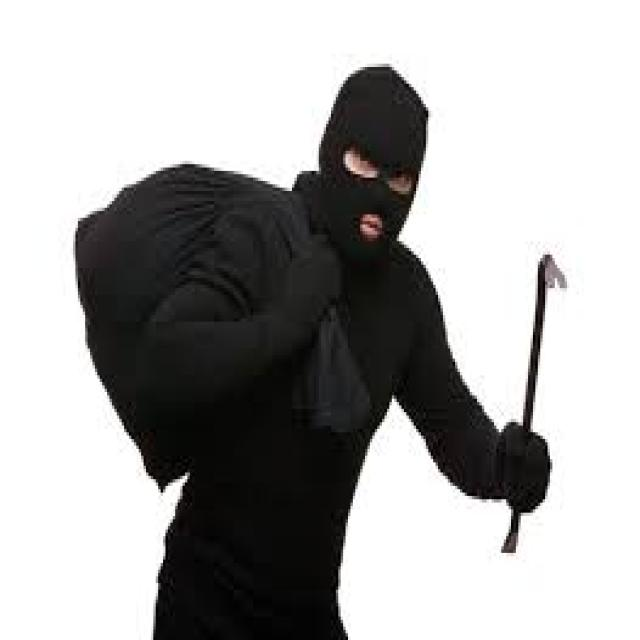person-with-mask: (65, 32, 588, 640)
